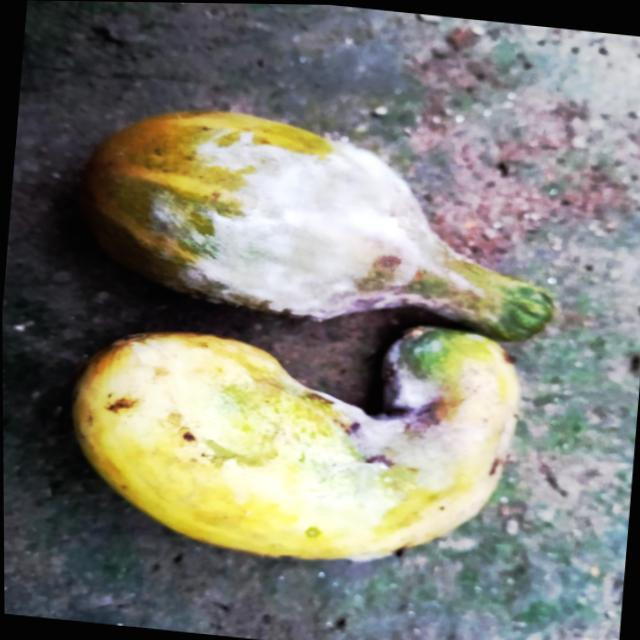Pythium-Fruit-Rot: (140, 110, 487, 334), (301, 328, 526, 529)
